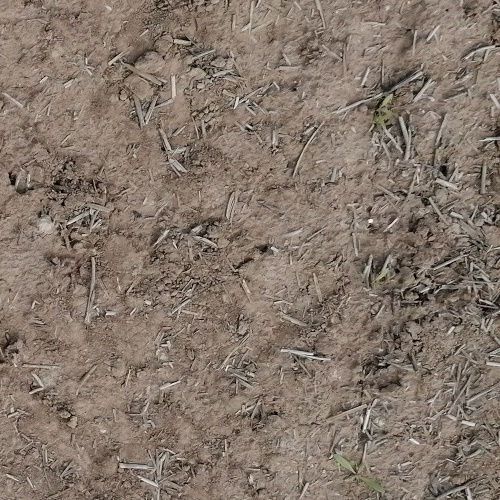beet: (333, 455, 384, 492), (373, 96, 392, 127)
